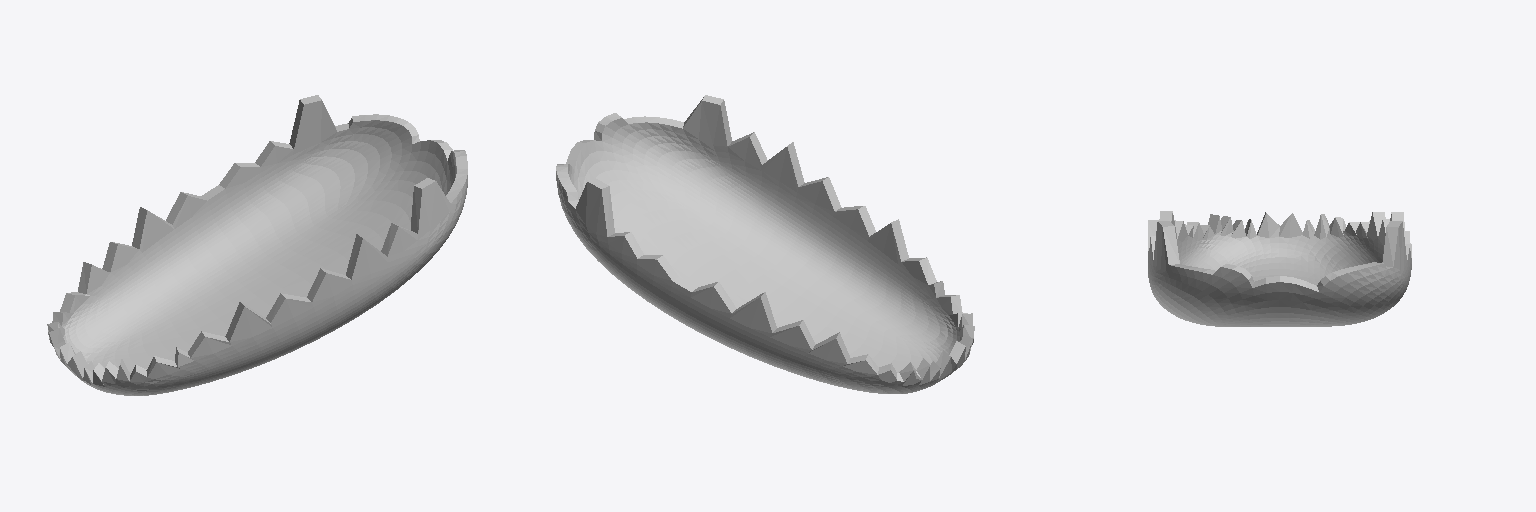
Rendered from Mandibula.obj.
3 views of the same model, side by side, from view 1: azimuth 30°, elevation 25°; view 2: azimuth 150°, elevation 25°; view 3: azimuth 270°, elevation 25° (orthographic).
Parts seen in each view (by area): view 1: mandibula_Goddard_None; view 2: mandibula_Goddard_None; view 3: mandibula_Goddard_None.
Boxes of the visible parts, x1=… form: mandibula_Goddard_None: x1=47, y1=95, x2=467, y2=395; mandibula_Goddard_None: x1=556, y1=95, x2=974, y2=393; mandibula_Goddard_None: x1=1148, y1=211, x2=1411, y2=326.
Bounding box in the file's own units: 2.68 × 1.19 × 1.61.